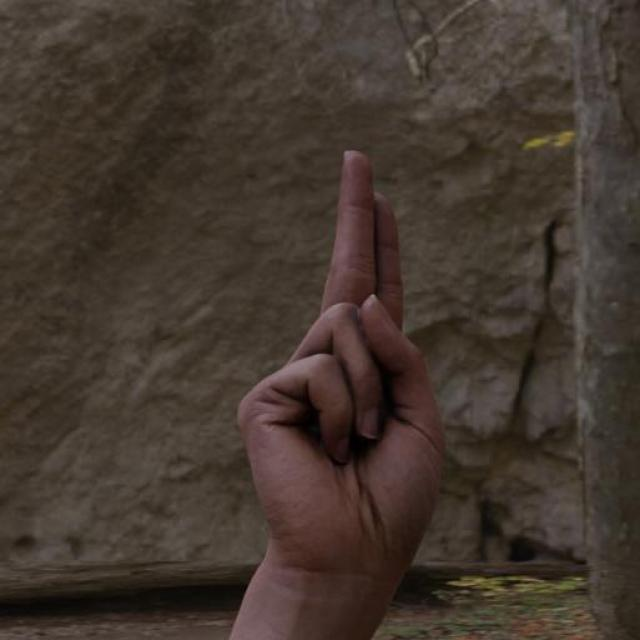U: (175, 137, 489, 640)
